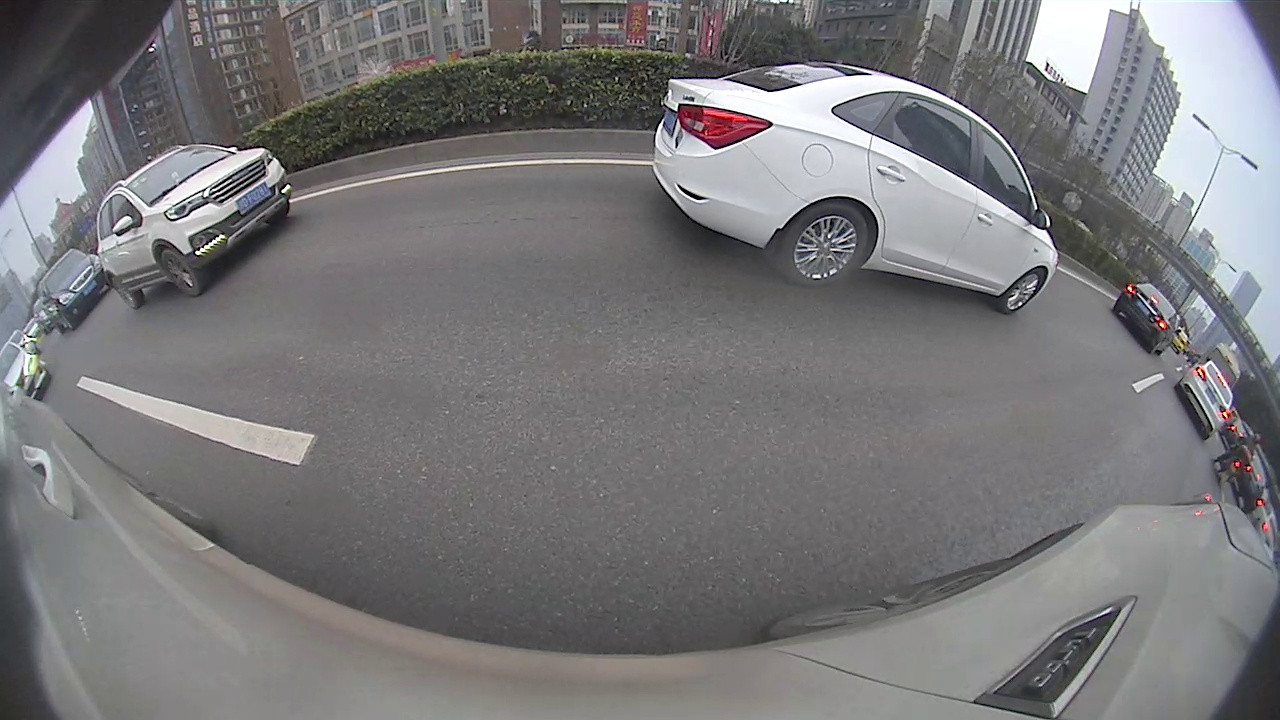car: (650, 61, 1060, 314), (94, 143, 292, 309), (1174, 358, 1236, 442), (1112, 282, 1178, 354)
front: (1000, 268, 1048, 313), (161, 247, 200, 297)
rear: (779, 204, 870, 287), (109, 275, 141, 311)
